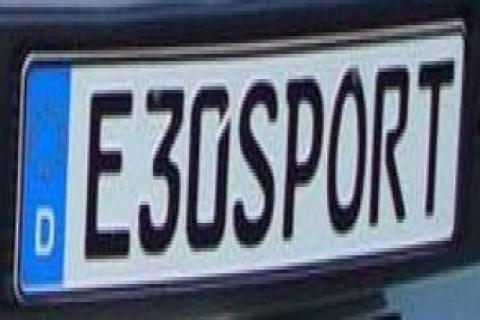LicensePlate: (5, 12, 474, 315)
